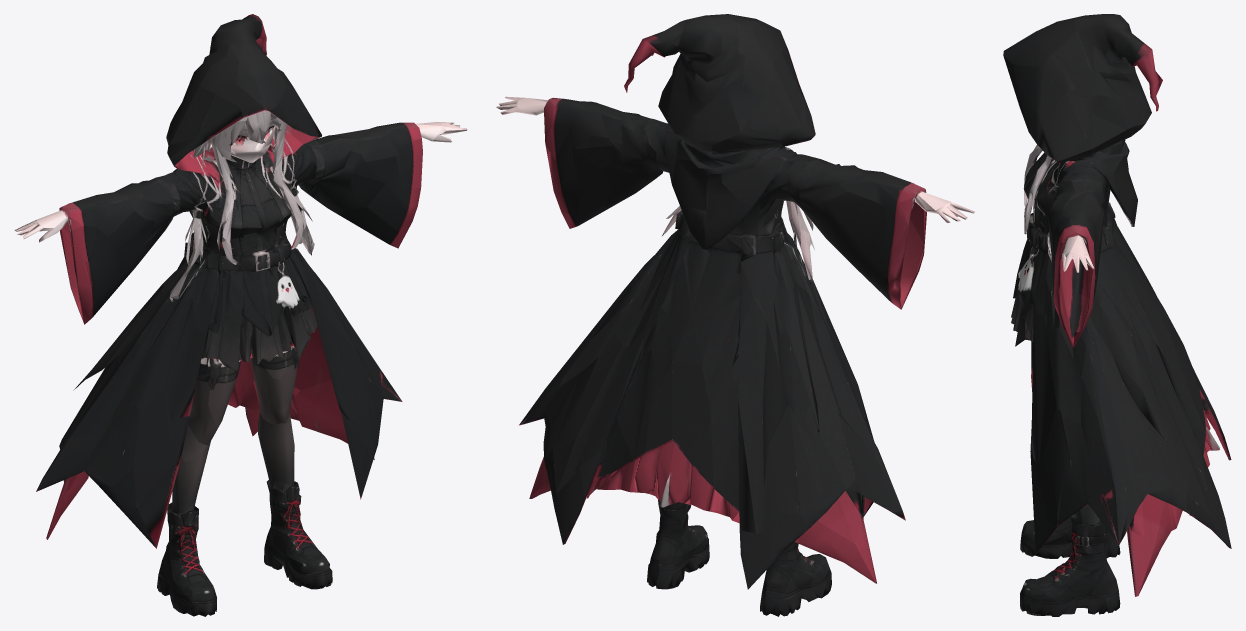
File: Scythe.fbx
3 views of the same model, side by side, from view 1: azimuth 30°, elevation 25°; view 2: azimuth 150°, elevation 25°; view 3: azimuth 270°, elevation 25° (orthographic). The views are drawn at different scales.
Parts seen in each view (by area): view 1: Mesh_0; view 2: Mesh_0; view 3: Mesh_0.
Boxes of the visible parts, left/top/right/bottom form: Mesh_0: left=14, top=14, right=467, bottom=616; Mesh_0: left=496, top=14, right=974, bottom=616; Mesh_0: left=1003, top=14, right=1231, bottom=616.
Size of the model in its own units: 162 by 190 by 69.03.
1 material, 1 textured.
